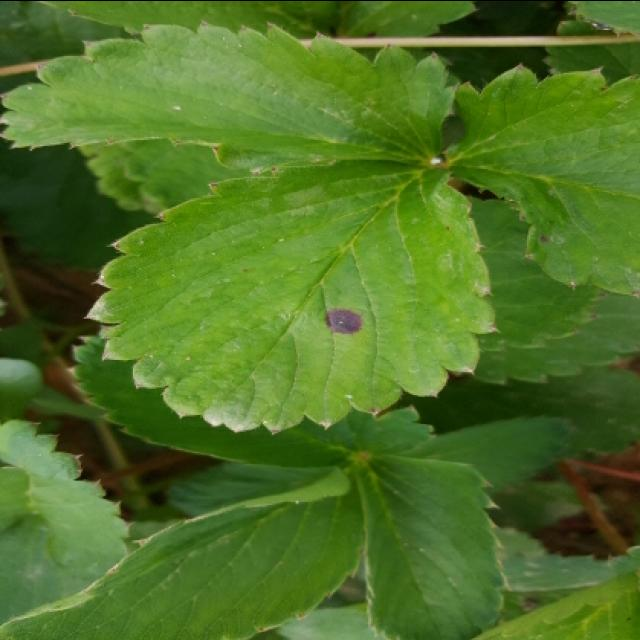Leaf Spot: (81, 158, 500, 436), (440, 61, 638, 298)
